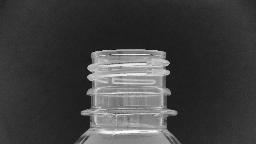No Cap: (74, 45, 184, 121)
